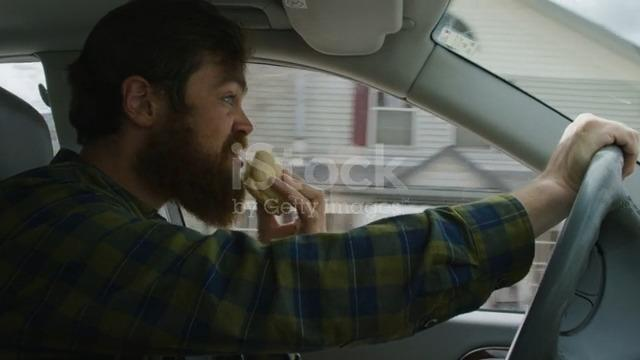Eating: (164, 117, 339, 237)
